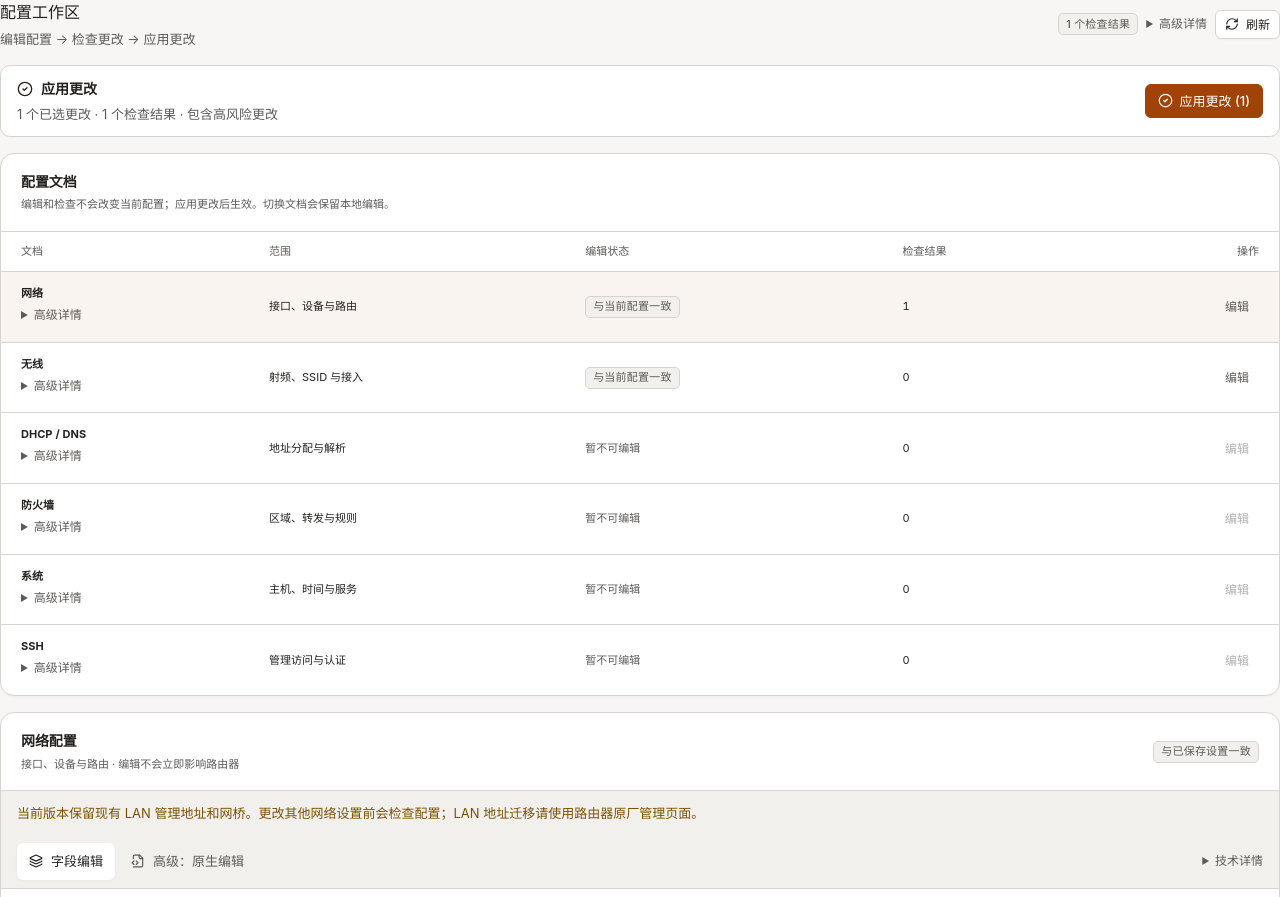
Test: FullControl configuration › retains capture-disabled guidance during pending confirmation and after 确认生效
Click the button with aria-label "应用已选更改 (1)": (1204, 101) [1144,84,1263,118]
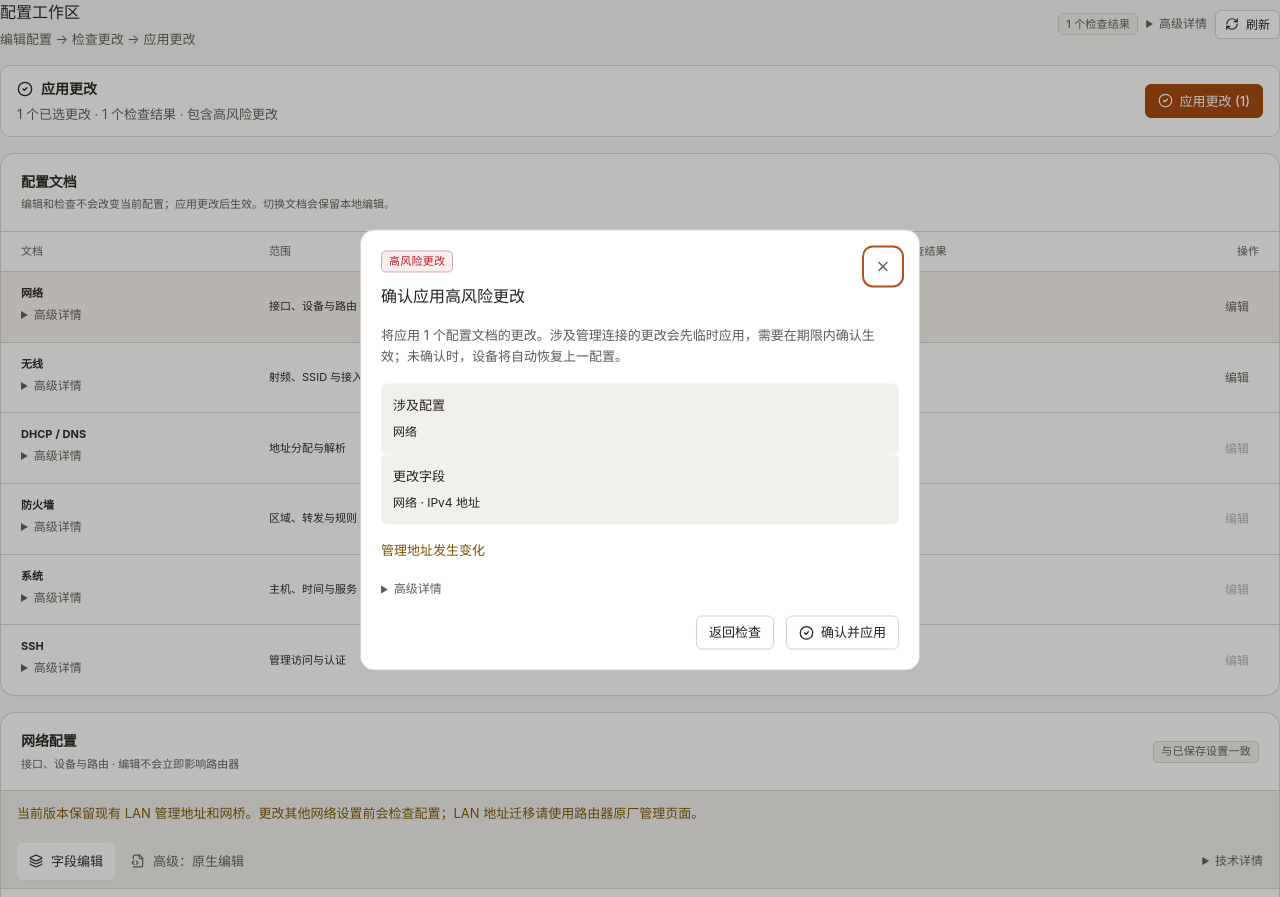
Click the button "确认并应用": (842, 632) [786,616,899,650]
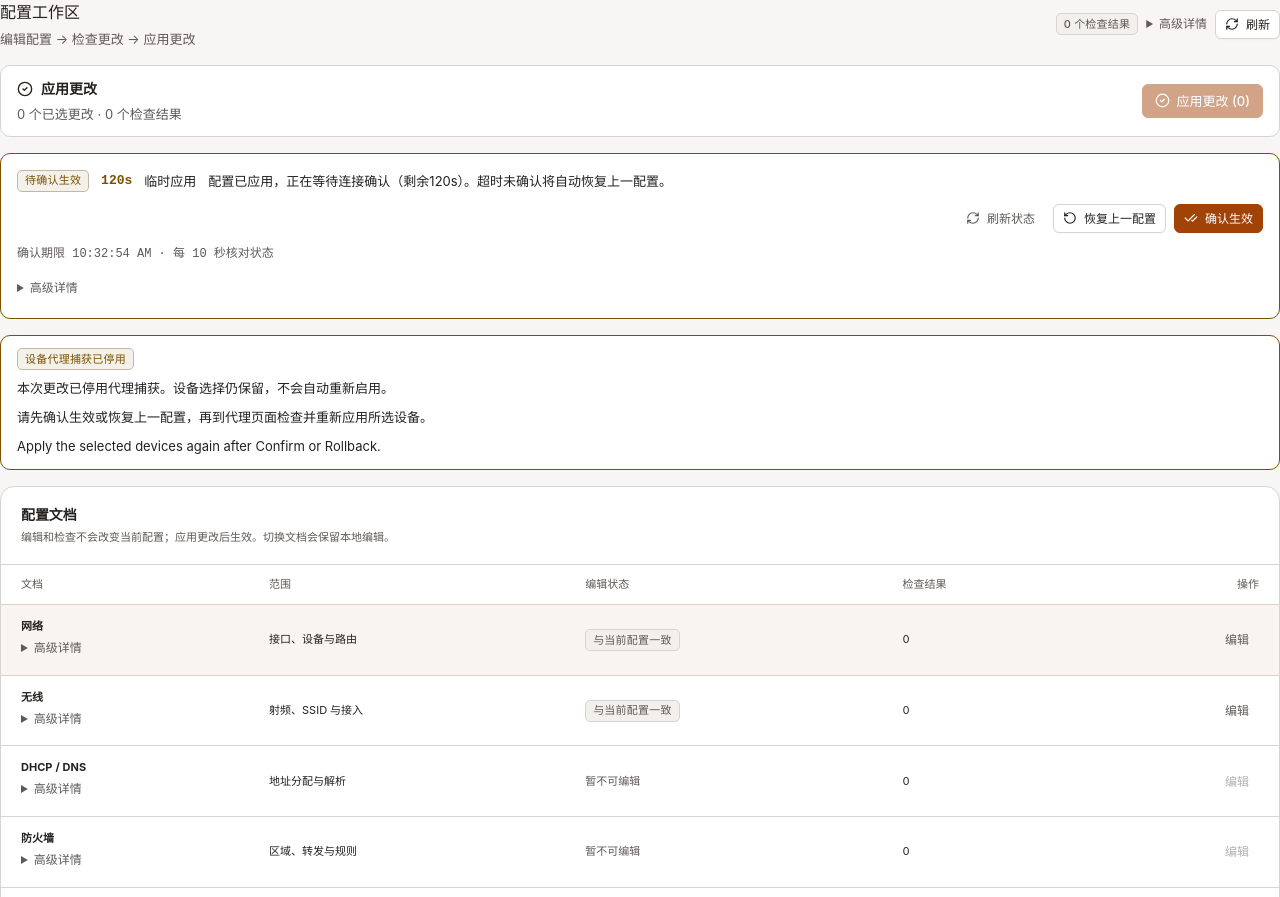
Now the text "待确认生效" is shown, box [17,170,89,192]
Now the message named "配置应用提示" shows "请先确认生效或恢复上一配置", box [17,409,433,425]
Click the button "确认生效": (1218, 218) [1174,204,1263,233]
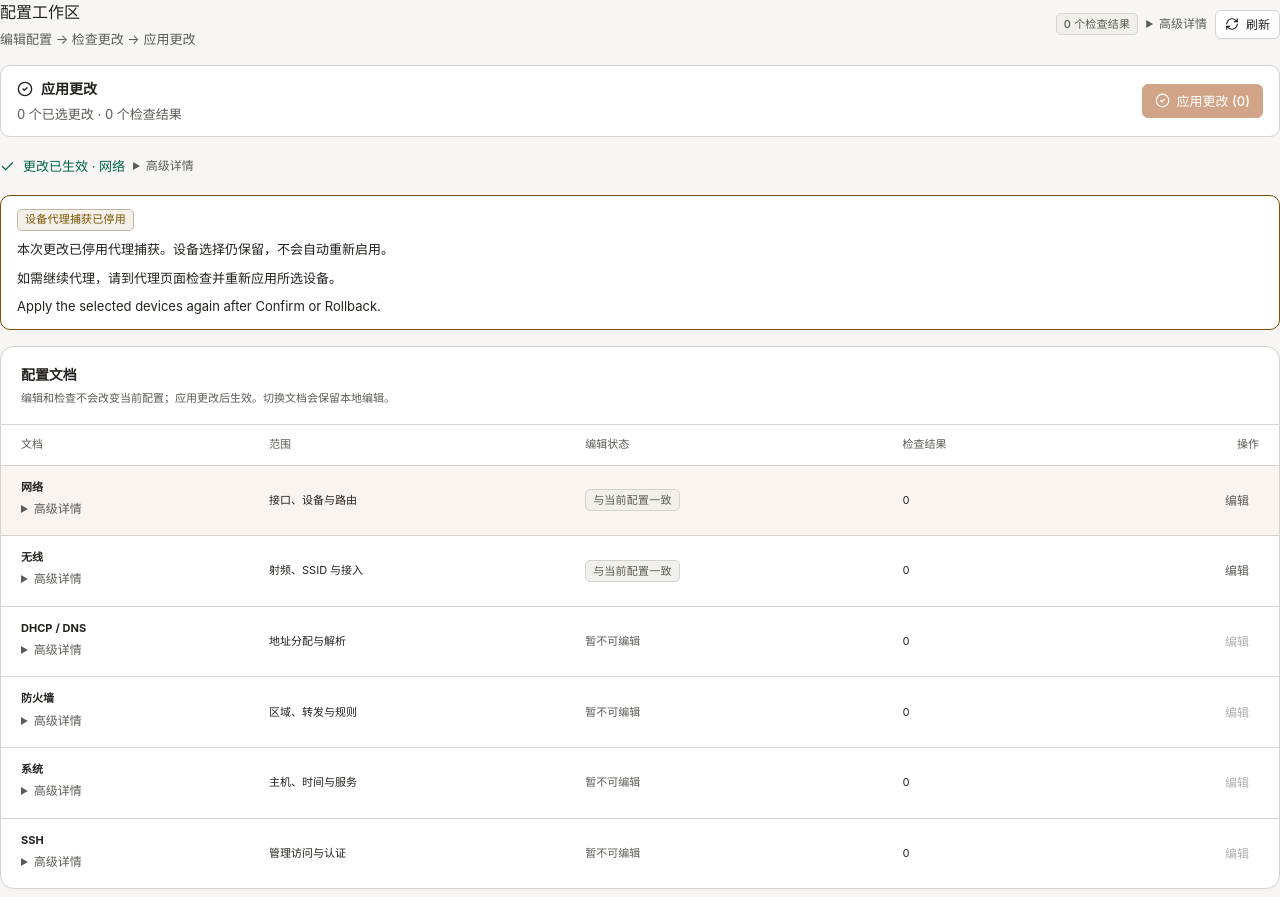
Now the message named "配置应用提示" shows "Apply the selected devices again after Confirm or Rollback.", box [17,298,381,314]
Now the text "更改已生效 · 网络" is shown, box [23,156,125,176]
Now the text "待确认生效" is gone
